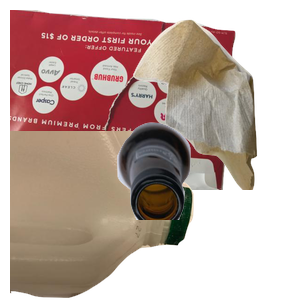glass: (115, 120, 300, 300)
paper: (10, 10, 238, 190)
plastic: (10, 131, 196, 300)
trash: (131, 17, 300, 197)
